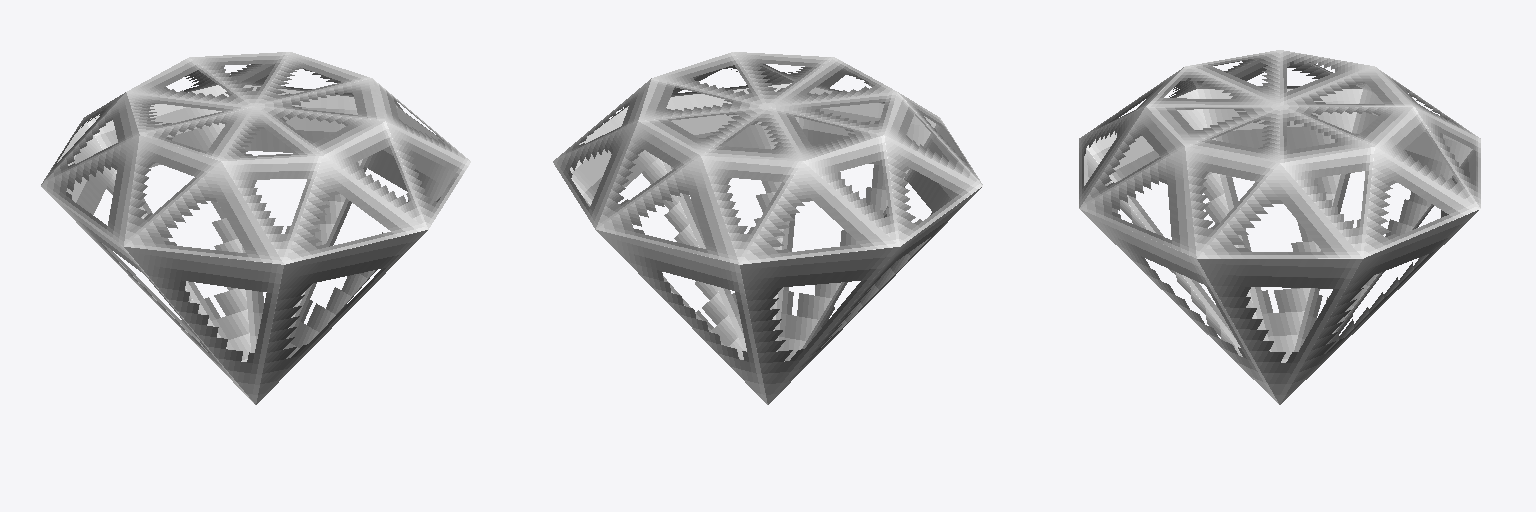
3 views of the same model, side by side, from view 1: azimuth 30°, elevation 25°; view 2: azimuth 150°, elevation 25°; view 3: azimuth 270°, elevation 25° (orthographic).
Parts seen in each view (by area): view 1: Gem; view 2: Gem; view 3: Gem.
Boxes of the visible parts, box(x1,y1,x2,y2) form: Gem: box(41, 52, 470, 404); Gem: box(553, 52, 982, 404); Gem: box(1079, 50, 1480, 404).
Size of the model in its own units: 48 by 39.41 by 48.
1 materials, 1 textured.